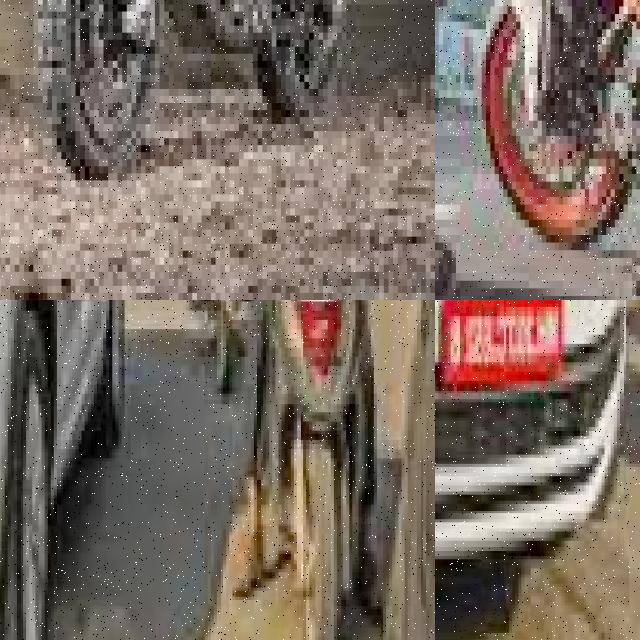bike: (33, 0, 355, 173), (473, 0, 640, 300)
car: (435, 300, 623, 640), (0, 300, 149, 640)
